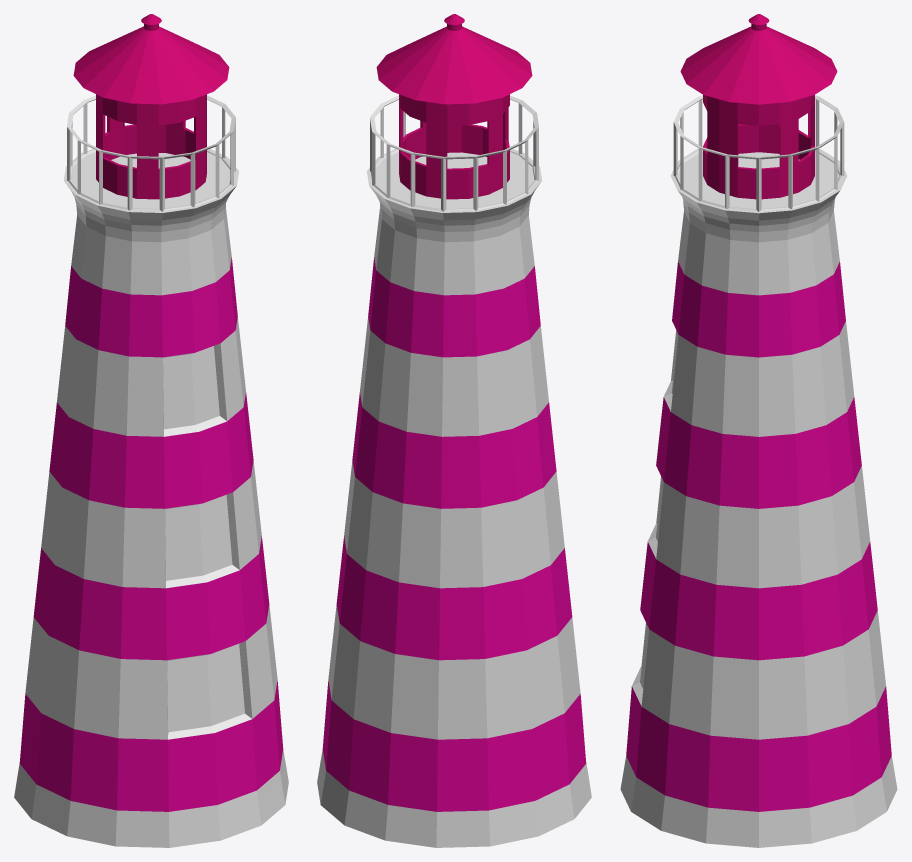
File: phare_candy.glb
The picture shows the model from 3 angles, left to right: view 1: azimuth 30°, elevation 25°; view 2: azimuth 150°, elevation 25°; view 3: azimuth 270°, elevation 25°; orthographic projection.
Visible parts, largest first — view 1: phare; view 2: phare; view 3: phare.
Boxes of the visible parts, x1,y1,x2,y2 form: phare: (14, 14, 288, 847); phare: (317, 14, 591, 847); phare: (620, 14, 897, 847).
Size of the model in its own units: 1.19 by 3.67 by 1.19.
